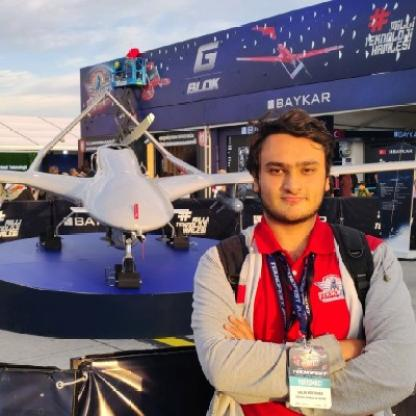person: (246, 111, 343, 228)
